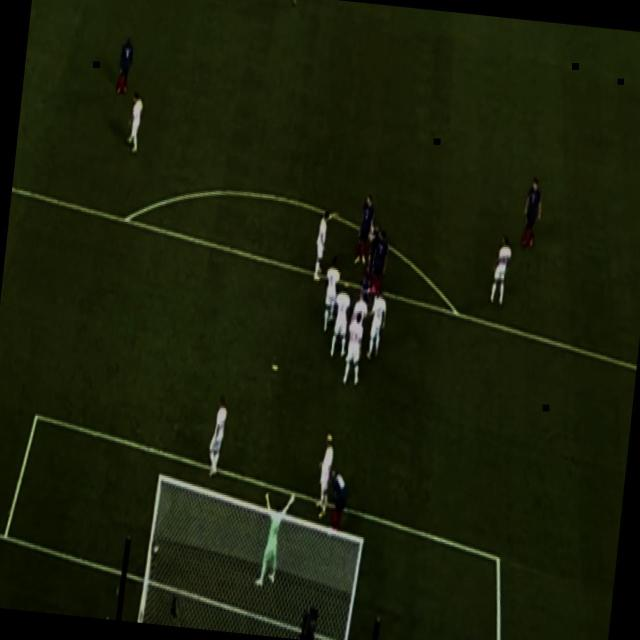player-white: (253, 488, 298, 591), (204, 393, 230, 481), (312, 430, 337, 520), (312, 207, 340, 283), (345, 287, 371, 366), (341, 310, 367, 387), (364, 287, 390, 363), (488, 234, 514, 308), (319, 255, 343, 334), (329, 282, 353, 361), (521, 176, 545, 250), (324, 466, 350, 534), (354, 192, 376, 268), (369, 228, 391, 298), (362, 222, 383, 292), (124, 89, 146, 155), (115, 33, 136, 97), (286, 0, 304, 6)
